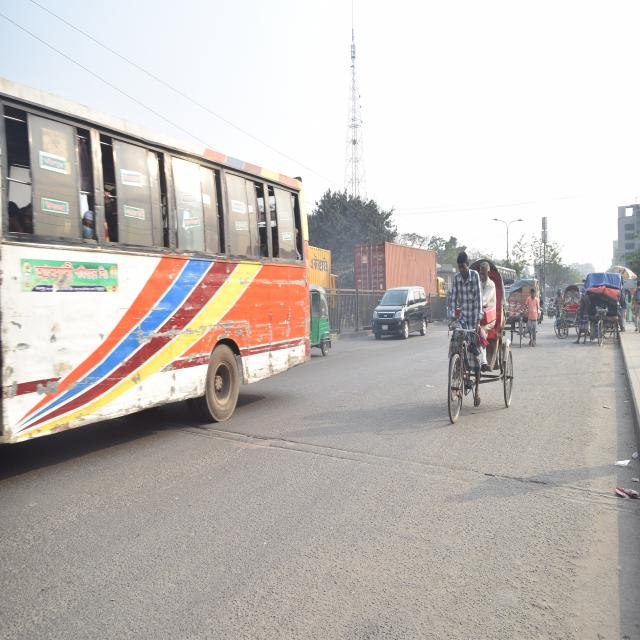bus: (1, 97, 315, 460)
microbus: (370, 278, 434, 349)
motorbike: (546, 294, 558, 322)
